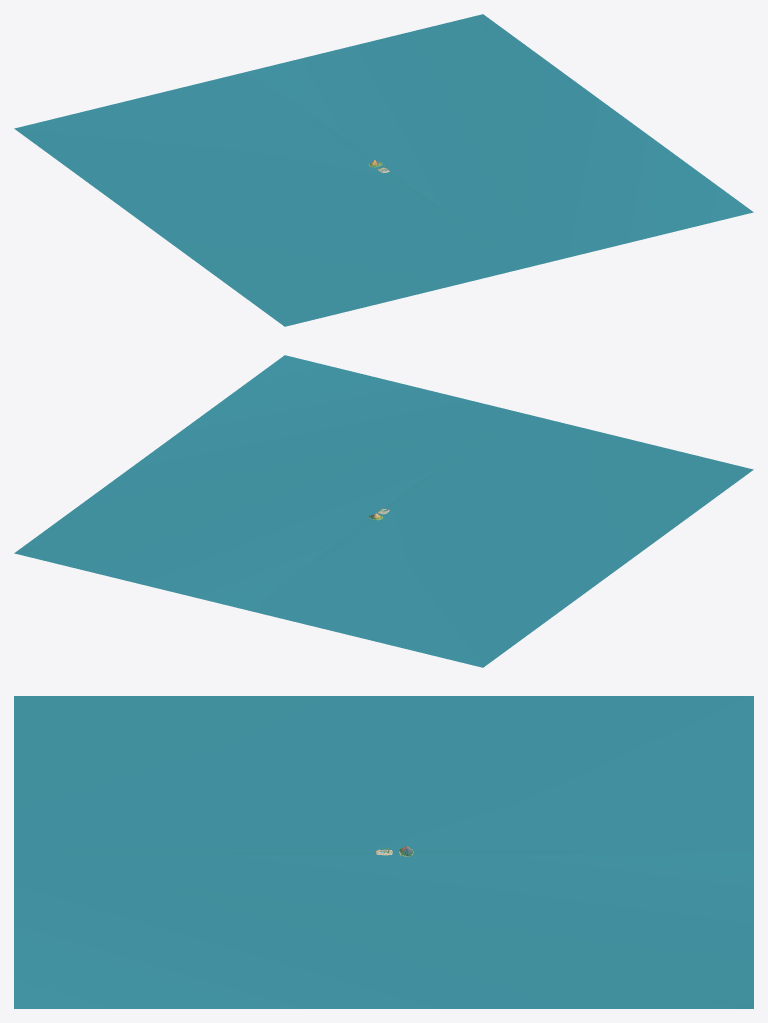
The model's file is tropical.glb.
The picture shows the model from 3 angles, top to bottom: view 1: azimuth 30°, elevation 25°; view 2: azimuth 150°, elevation 25°; view 3: azimuth 270°, elevation 25°; orthographic projection. The views are drawn at different scales.
Visible parts, largest first — view 1: Architecture; view 2: Architecture; view 3: Architecture.
Boxes of the visible parts, left/top/right/bottom form: Architecture: left=14, top=14, right=753, bottom=326; Architecture: left=14, top=355, right=753, bottom=667; Architecture: left=14, top=696, right=753, bottom=1008.
Bounding box in the file's own units: 2400 × 22.68 × 2400.
